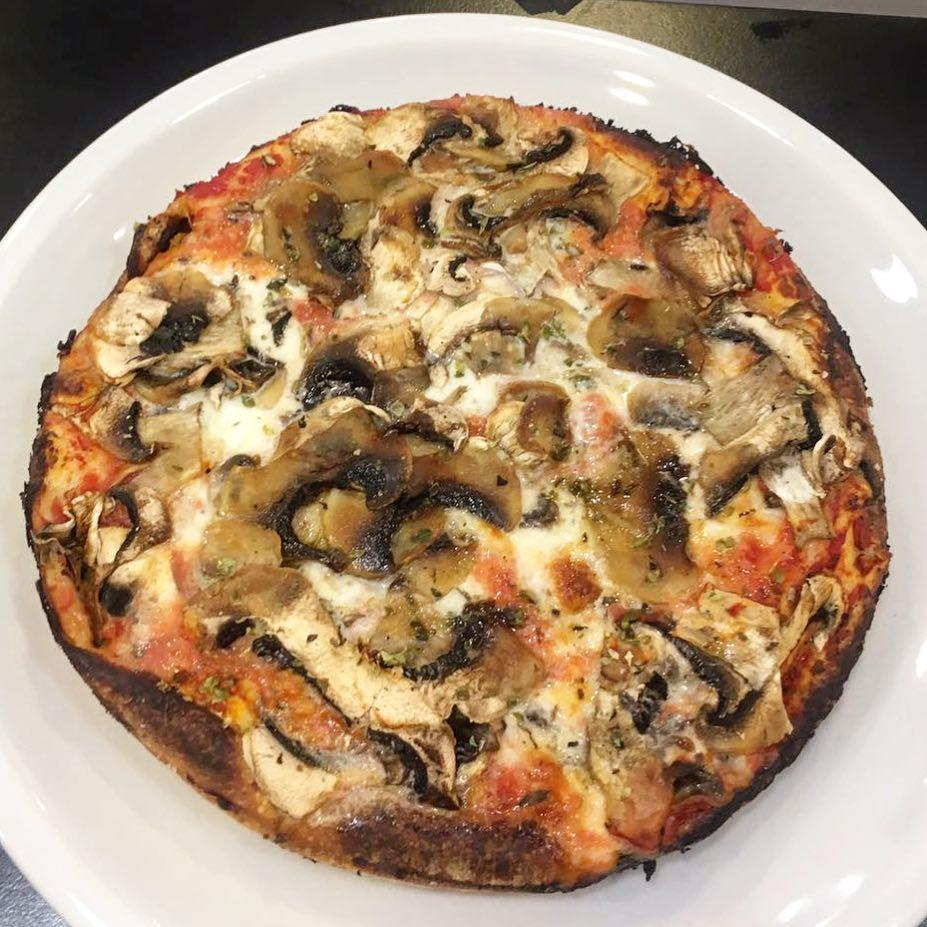Mushroom: (554, 568, 851, 825), (175, 563, 466, 808), (190, 404, 535, 591), (400, 153, 646, 297), (698, 304, 866, 487), (255, 142, 433, 296), (365, 98, 598, 180), (94, 258, 229, 384), (697, 395, 822, 521), (580, 286, 717, 388), (239, 706, 343, 828), (35, 487, 116, 643), (739, 444, 832, 578), (118, 451, 212, 576), (293, 318, 432, 401), (643, 203, 759, 302), (446, 286, 562, 380), (224, 276, 284, 414), (488, 370, 573, 467), (583, 243, 687, 304), (90, 396, 206, 450)
Pizza: (19, 90, 891, 893)
